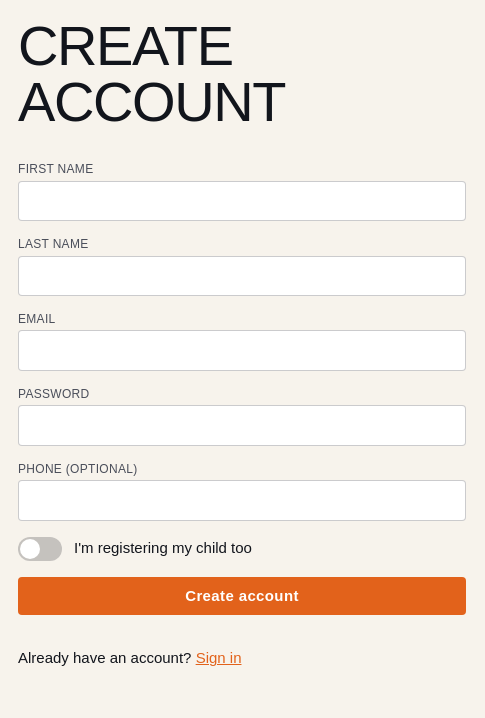
Scenario: RegisterPage › should show a duplicate-email error without leaving the form
In the field labelled "First name": (242, 201) [18,181,466,221], type "New"
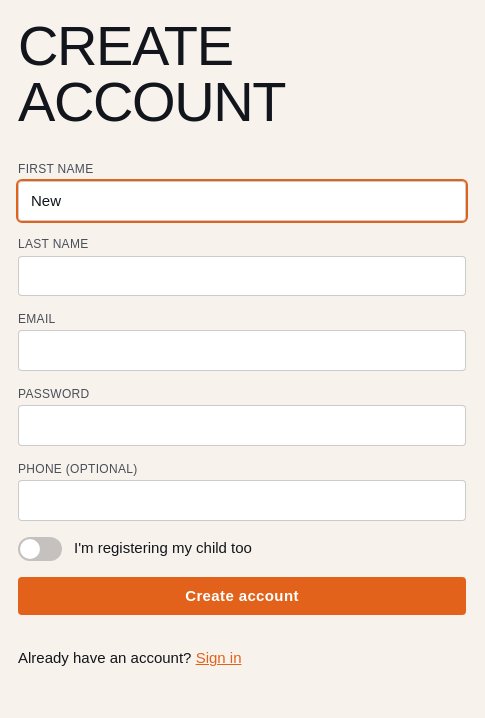
In the field labelled "Last name": (242, 276) [18,256,466,296], type "User"
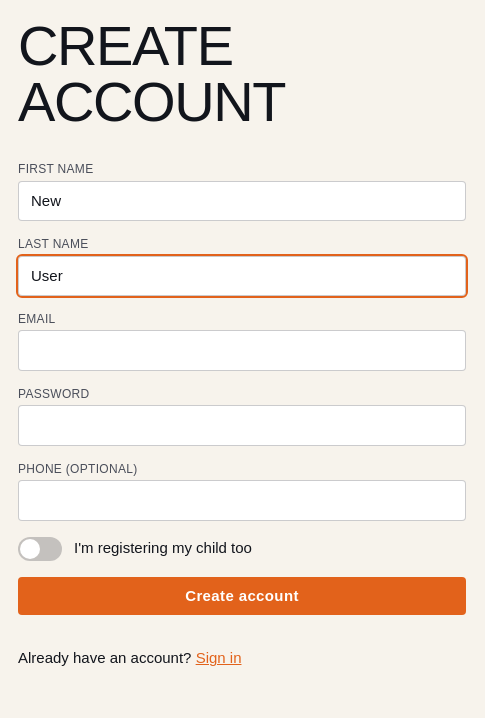
In the field labelled "Email": (242, 351) [18,330,466,371], type "new@x.com"
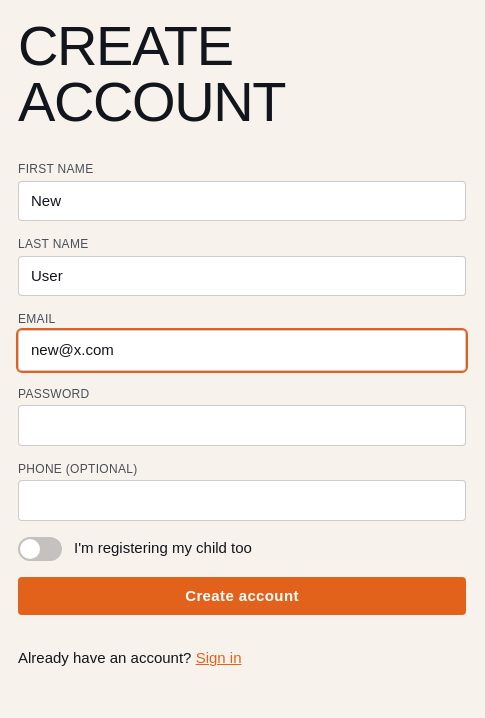
In the password field labelled "Password": (242, 426) [18,405,466,446], type "Passw0rd!"
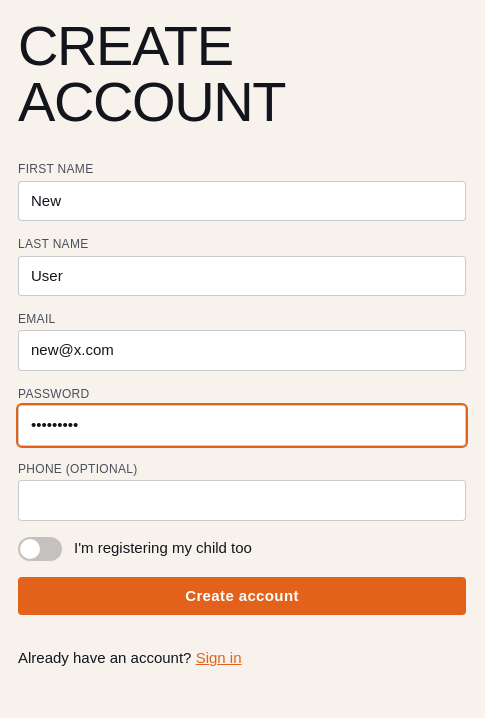
Click the button "Create account": (242, 596) [18,577,466,615]
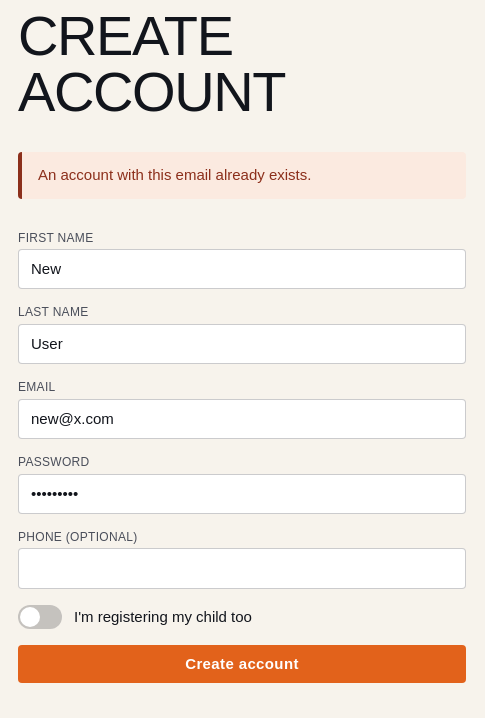
Expected: the button "Create account" is shown, [18,645,466,684]
Expected: the text "An account with this email already exists." is shown, [18,152,466,198]
